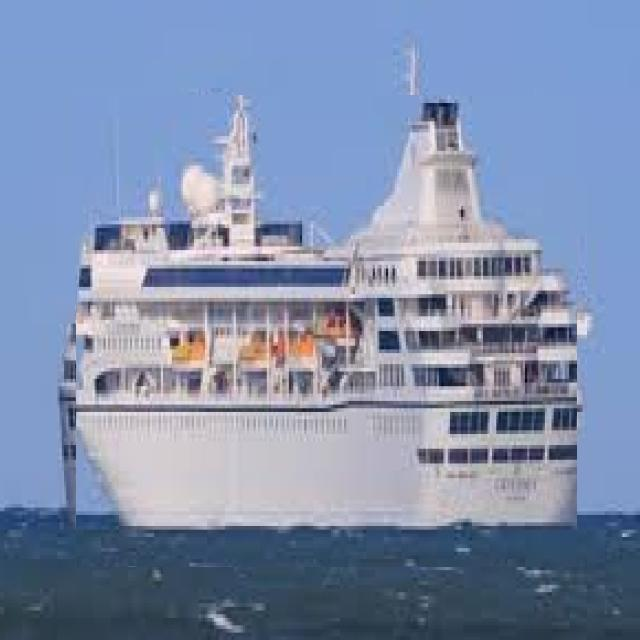PassengerShip: (76, 95, 577, 567)
